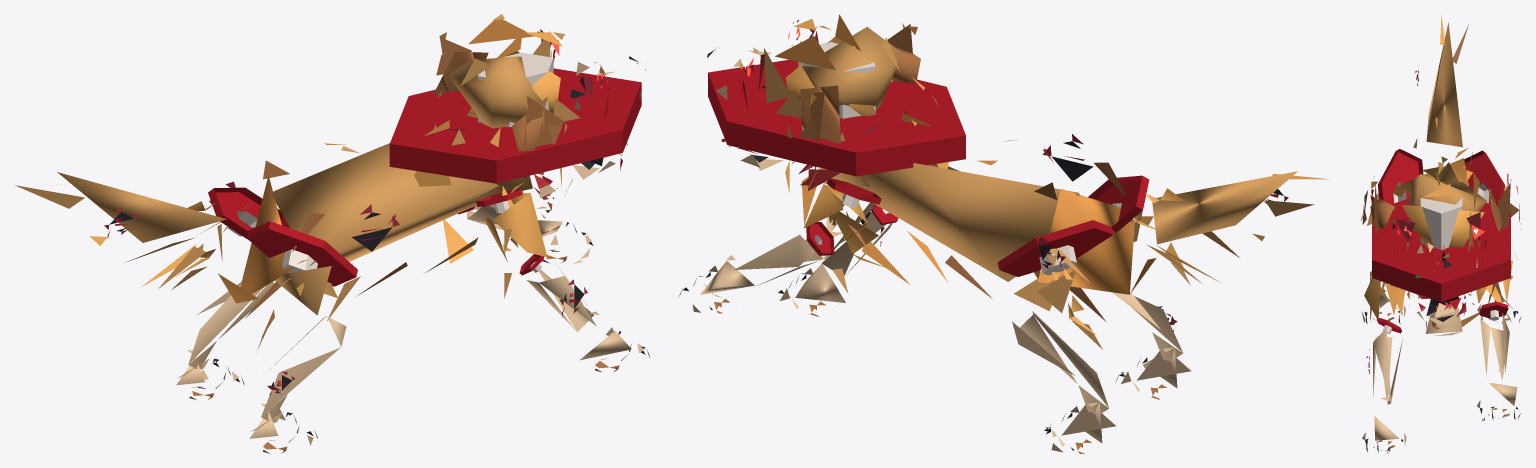
The picture shows the model from 3 angles, left to right: view 1: azimuth 30°, elevation 25°; view 2: azimuth 150°, elevation 25°; view 3: azimuth 270°, elevation 25°; orthographic projection. The views are drawn at different scales.
Visible parts, largest first — view 1: hip, stump_head, head, tail, stump_legBR, torso, legFR, stump_legBL, shinL, shinR, legBR, foreArmR (+3 smaller); view 2: hip, stump_head, head, tail, stump_legBL, torso, shinL, legBL, stump_legBR, foreArmL, shinR, legFL (+7 smaller); view 3: stump_head, head, tail, stump_legBR, stump_legBL, torso, foreArmR, hip, foreArmL, legFR, jaw, handR (+5 smaller).
Part boxes in pixels (x1,y1,x2,y2): hip: (200, 143, 524, 320); stump_head: (389, 52, 641, 183); head: (433, 14, 645, 196); tail: (15, 172, 226, 289); stump_legBR: (247, 221, 357, 286); torso: (414, 90, 557, 263); legFR: (482, 193, 547, 298); stump_legBL: (208, 187, 290, 239); shinL: (188, 282, 274, 368); shinR: (261, 316, 346, 420); legBR: (257, 259, 337, 349); foreArmR: (527, 260, 596, 331); hip: (848, 134, 1156, 322); stump_head: (708, 42, 965, 176); head: (707, 14, 920, 192); tail: (1145, 171, 1329, 283); stump_legBL: (997, 220, 1113, 276); torso: (791, 77, 948, 267); shinL: (1012, 311, 1108, 413); legBL: (1014, 255, 1102, 349); stump_legBR: (1088, 175, 1149, 232); foreArmL: (734, 234, 822, 286); shinR: (1112, 291, 1182, 361); legFL: (803, 184, 868, 293); stump_head: (1372, 198, 1510, 301); head: (1361, 165, 1521, 321); tail: (1413, 14, 1468, 162); stump_legBR: (1378, 149, 1423, 204); stump_legBL: (1464, 150, 1504, 206); torso: (1380, 197, 1503, 335); foreArmR: (1366, 327, 1402, 404); hip: (1371, 152, 1511, 299); foreArmL: (1480, 313, 1509, 380); legFR: (1364, 271, 1405, 321); jaw: (1409, 293, 1474, 328); handR: (1362, 397, 1406, 453).
Bounding box in the file's own units: 1.55 × 0.8 × 0.4468.
